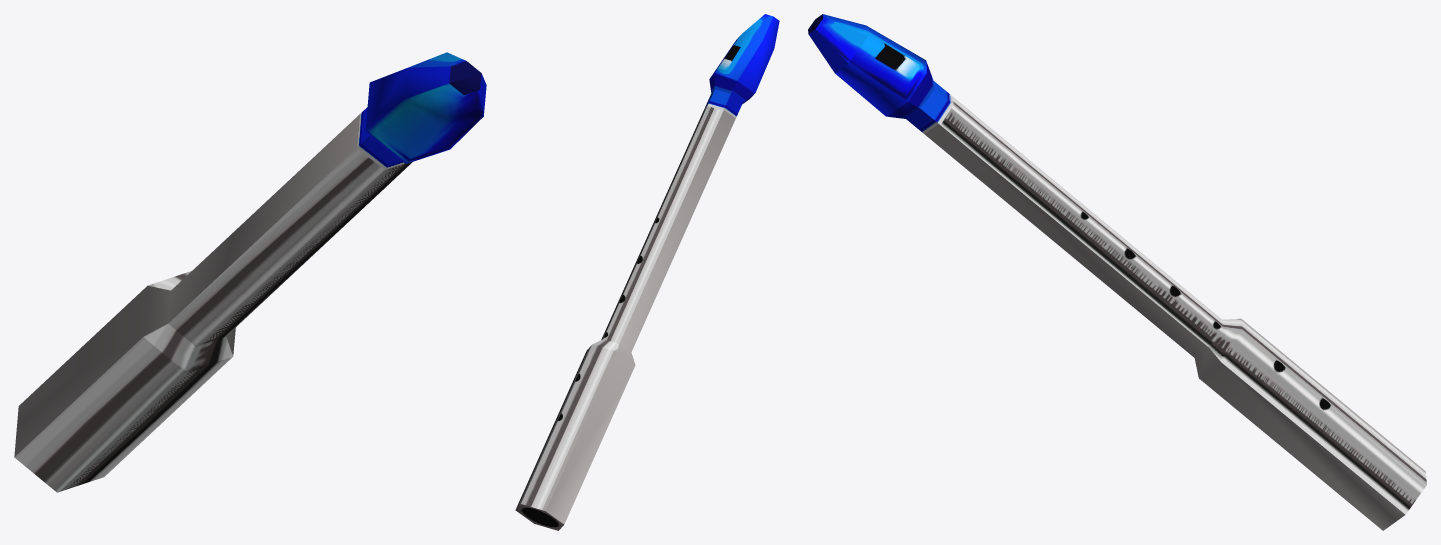
The model's file is Flauta1_000013.obj.
3 views of the same model, side by side, from view 1: azimuth 30°, elevation 25°; view 2: azimuth 150°, elevation 25°; view 3: azimuth 270°, elevation 25° (orthographic). The views are drawn at different scales.
Parts seen in each view (by area): view 1: pCylinder3; view 2: pCylinder3; view 3: pCylinder3.
Part boxes in pixels (box(x1,y1,x2,y2)): pCylinder3: box(14, 52, 486, 492); pCylinder3: box(515, 14, 779, 530); pCylinder3: box(808, 14, 1426, 530).
Bounding box in the file's own units: 0.628 × 3.93 × 4.43.
